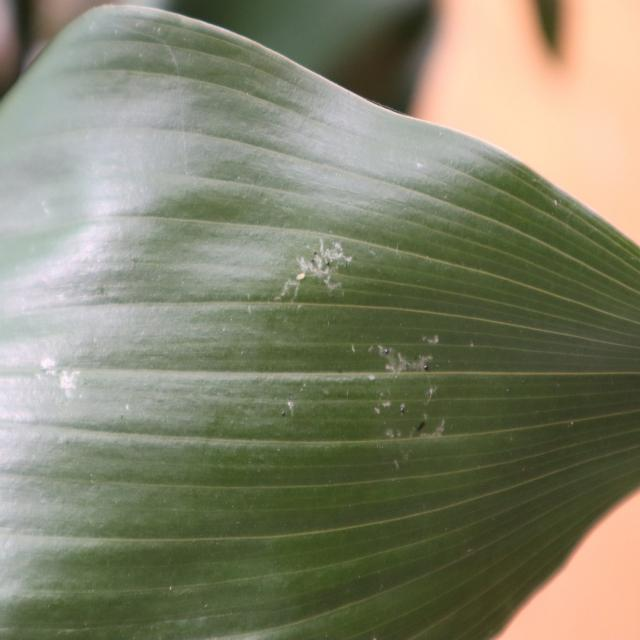Thrip-Adult-: (416, 419, 427, 434)
Thrip-Larva-: (291, 270, 307, 283)
